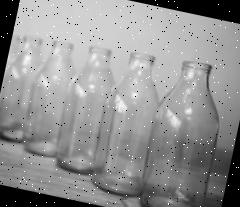glass: (0, 22, 233, 207)
